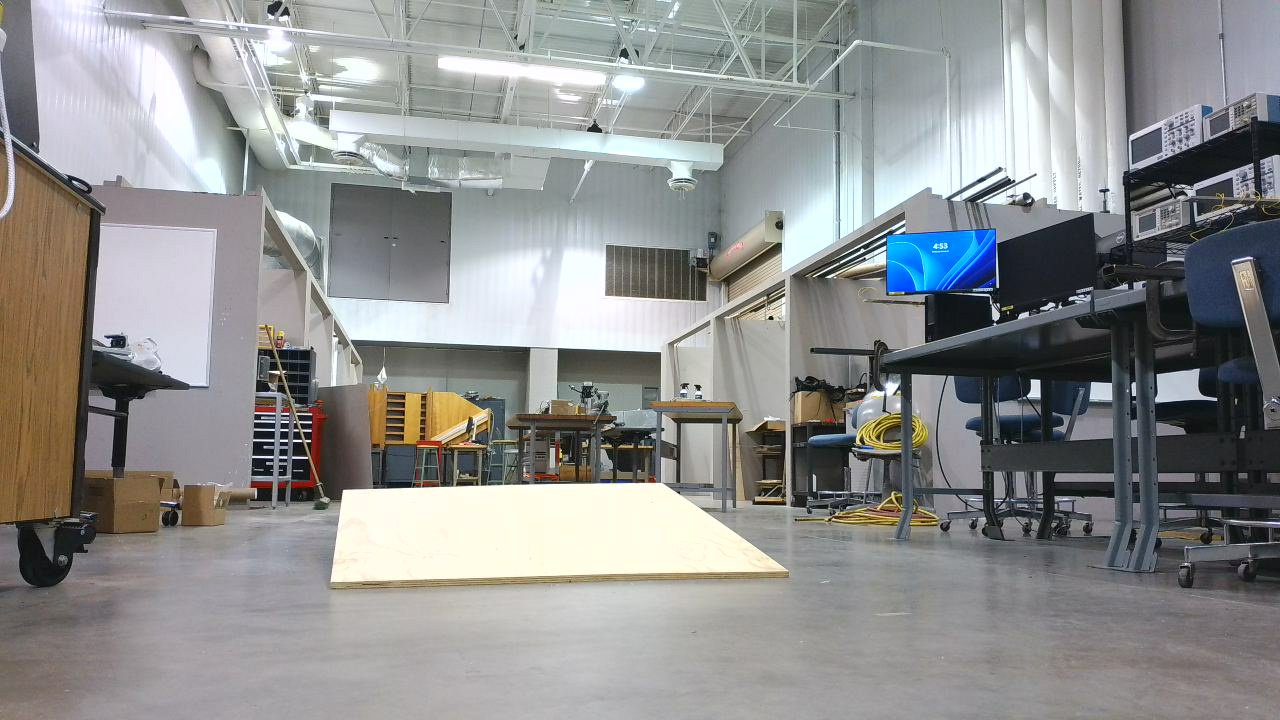ramp: (332, 484, 798, 601)
